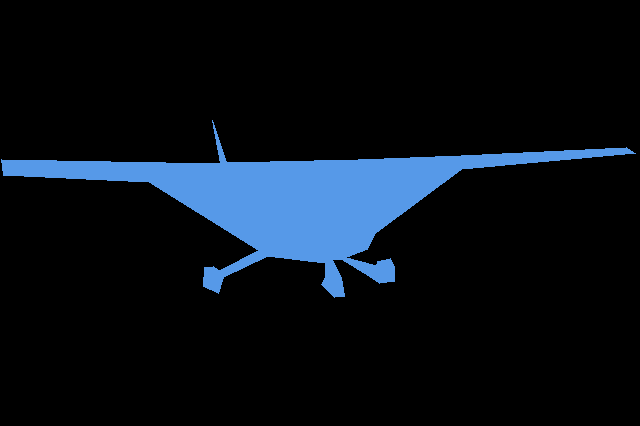Airplane: (1, 120, 635, 297)
